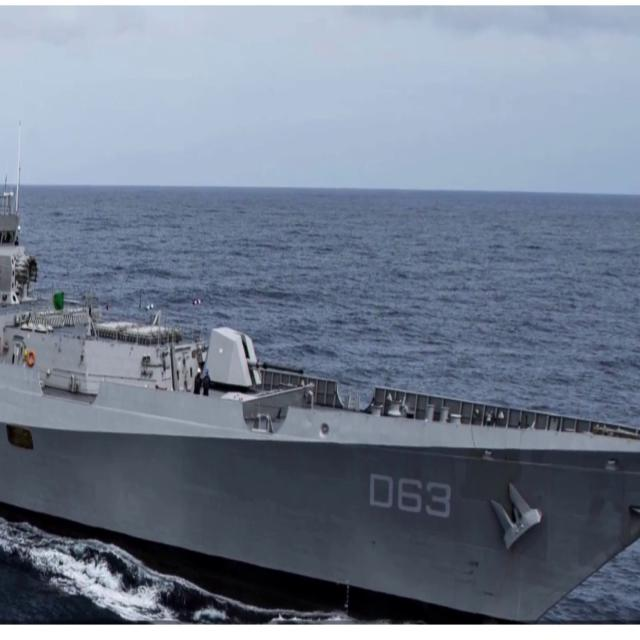OCR: (368, 468, 454, 524)
